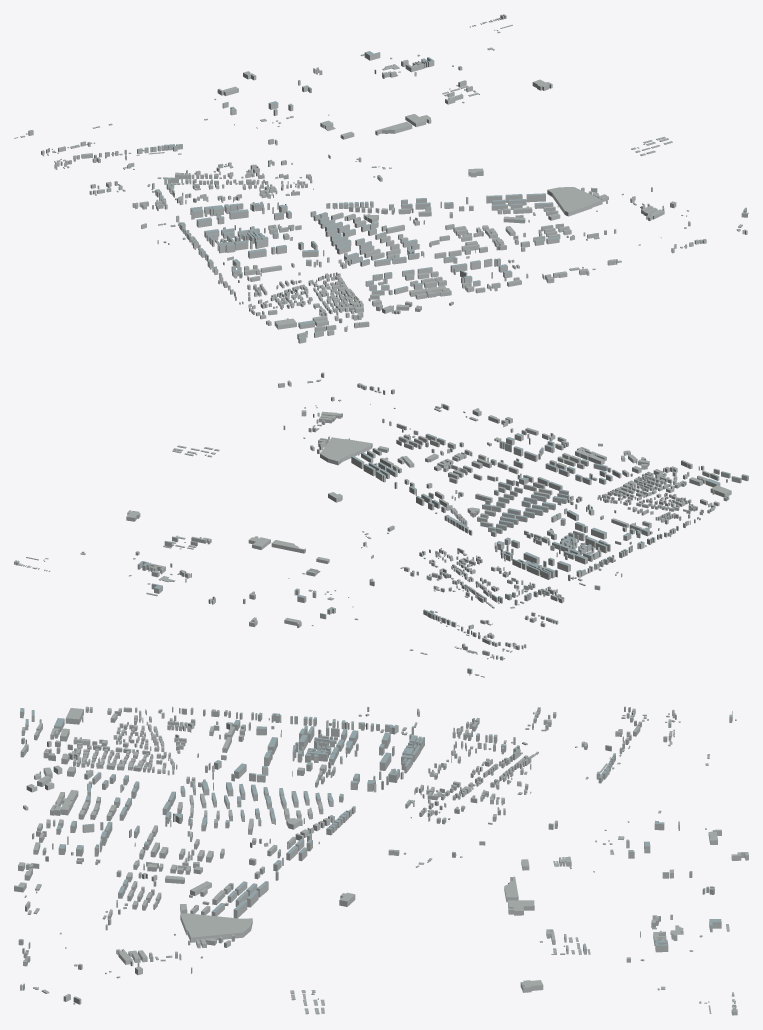
The picture shows the model from 3 angles, top to bottom: view 1: azimuth 30°, elevation 25°; view 2: azimuth 150°, elevation 25°; view 3: azimuth 270°, elevation 25°; orthographic projection. The views are drawn at different scales.
Parts seen in each view (by area): view 1: 上海全域建筑分块 · mapped building neighborhood; view 2: 上海全域建筑分块 · mapped building neighborhood; view 3: 上海全域建筑分块 · mapped building neighborhood.
Part boxes in pixels (box(x1,y1,x2,y2)): 上海全域建筑分块 · mapped building neighborhood: box(14, 14, 748, 343); 上海全域建筑分块 · mapped building neighborhood: box(14, 372, 748, 677); 上海全域建筑分块 · mapped building neighborhood: box(14, 706, 748, 1015).
Size of the model in its own units: 2085 by 29.39 by 2126.
